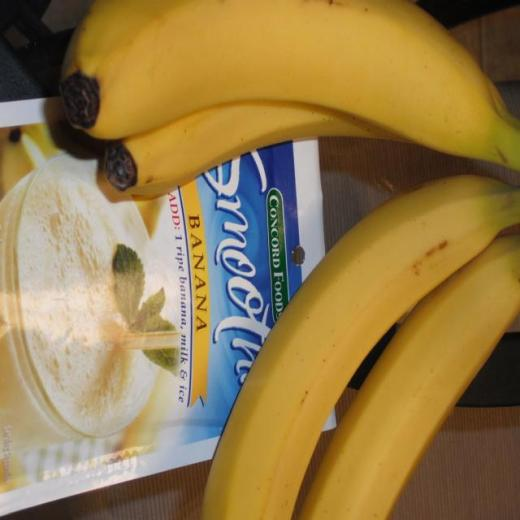Banana: (60, 42, 516, 488), (58, 0, 519, 173), (296, 233, 520, 520), (104, 102, 414, 198)
